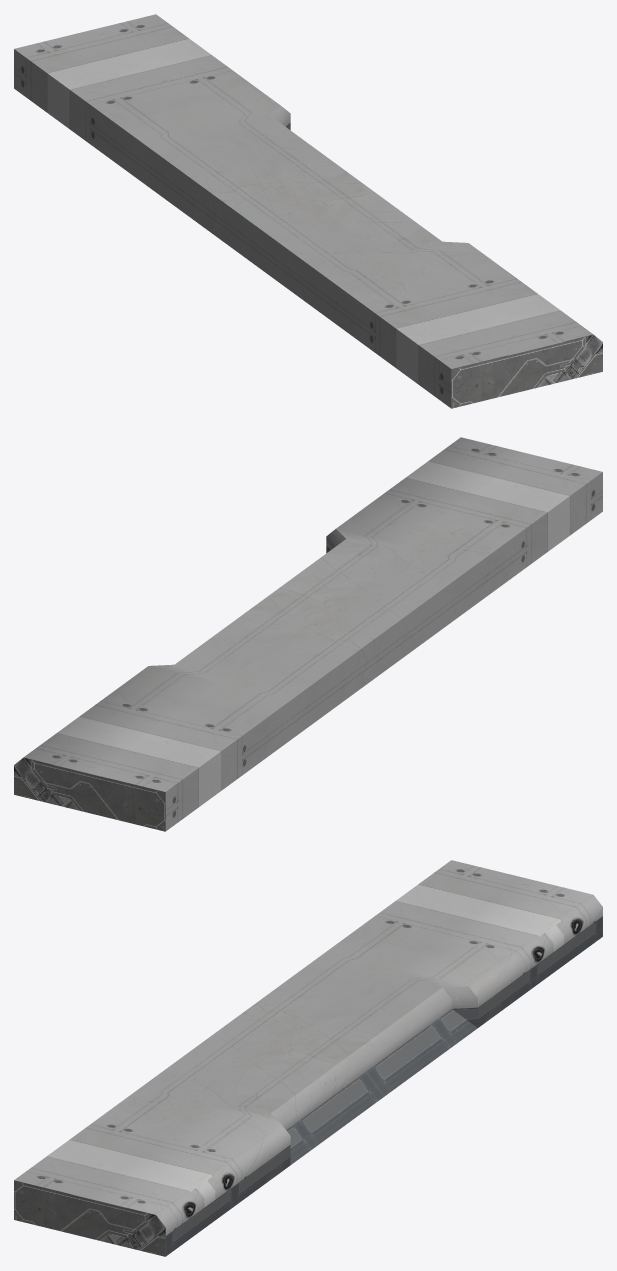
The model's file is SM_stairS1u2.fbx.
3 views of the same model, one above another, from view 1: azimuth 30°, elevation 25°; view 2: azimuth 150°, elevation 25°; view 3: azimuth 330°, elevation 25° (orthographic).
Parts seen in each view (by area): view 1: SM_stairS1u2_LOD0; view 2: SM_stairS1u2_LOD0; view 3: SM_stairS1u2_LOD0.
Part boxes in pixels (x1,y1,x2,y2): SM_stairS1u2_LOD0: (14,14,602,408); SM_stairS1u2_LOD0: (14,437,602,831); SM_stairS1u2_LOD0: (14,860,602,1256).
Size of the model in its own units: 40 by 200 by 10.
Materials: 3 (3 with a texture image).
